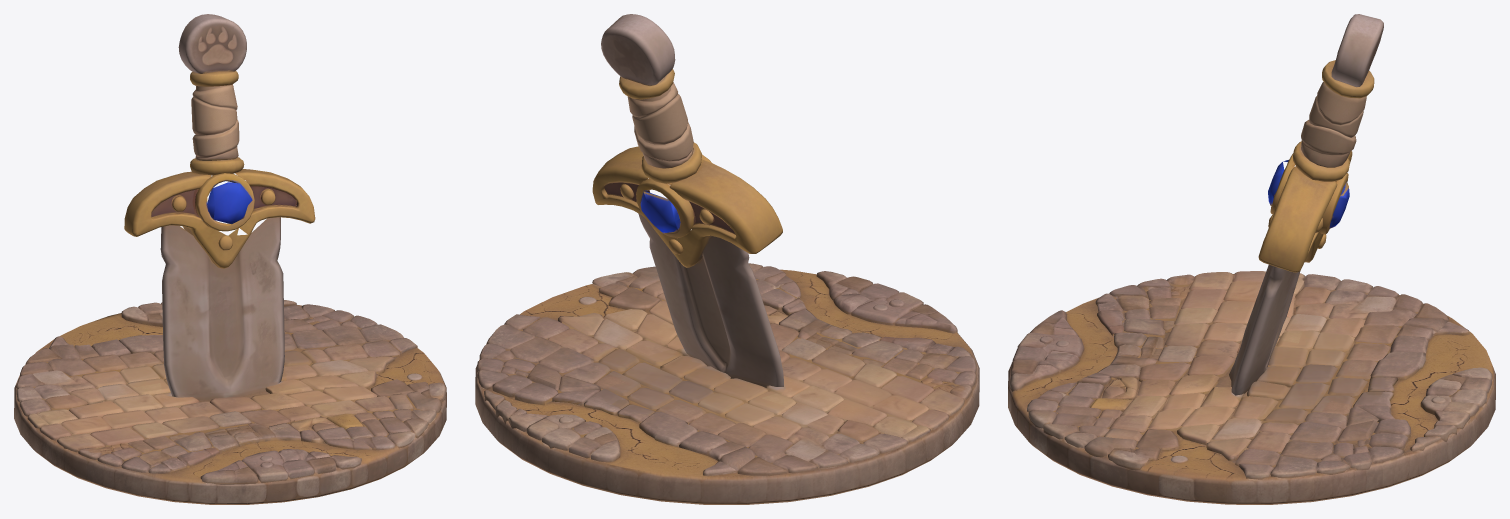
Rendered from Le Pion Épée  Attaquant.glb.
The picture shows the model from 3 angles, left to right: view 1: azimuth 30°, elevation 25°; view 2: azimuth 150°, elevation 25°; view 3: azimuth 270°, elevation 25°; orthographic projection. The views are drawn at different scales.
Visible parts, largest first — view 1: tripo_6a32acb4_d2e8_4dad_ac80_30a8e92c1b80; view 2: tripo_6a32acb4_d2e8_4dad_ac80_30a8e92c1b80; view 3: tripo_6a32acb4_d2e8_4dad_ac80_30a8e92c1b80.
Boxes of the visible parts, x1,y1,x2,y2 form: tripo_6a32acb4_d2e8_4dad_ac80_30a8e92c1b80: [14, 14, 446, 504]; tripo_6a32acb4_d2e8_4dad_ac80_30a8e92c1b80: [475, 14, 979, 504]; tripo_6a32acb4_d2e8_4dad_ac80_30a8e92c1b80: [1008, 14, 1495, 504].
Size of the model in its own units: 0.9995 by 0.9868 by 0.9995.
1 material, 1 textured.
